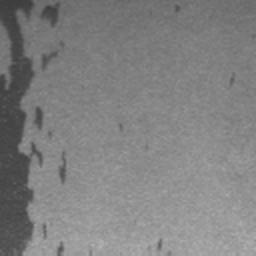Red iron sheet: (0, 0, 65, 256), (59, 150, 67, 183), (228, 70, 236, 86), (155, 237, 163, 251), (56, 242, 64, 256), (174, 5, 182, 14), (118, 122, 124, 133)
